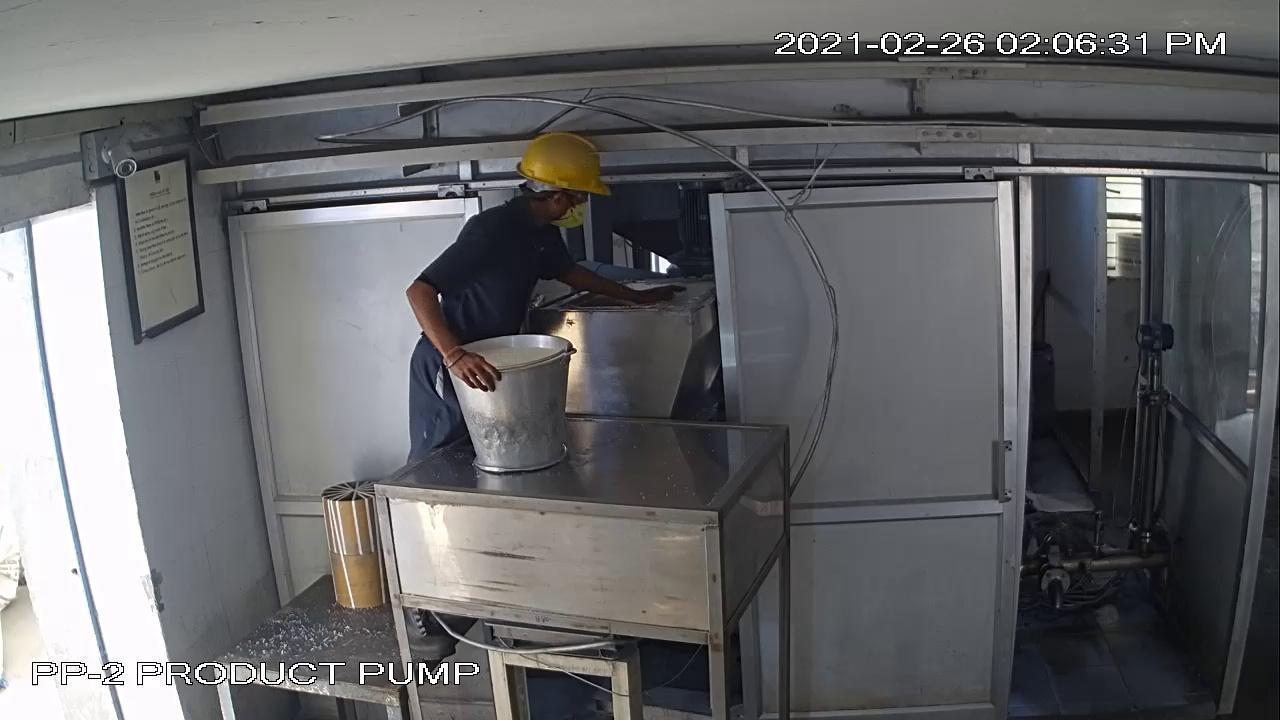helmet: (506, 128, 619, 203)
